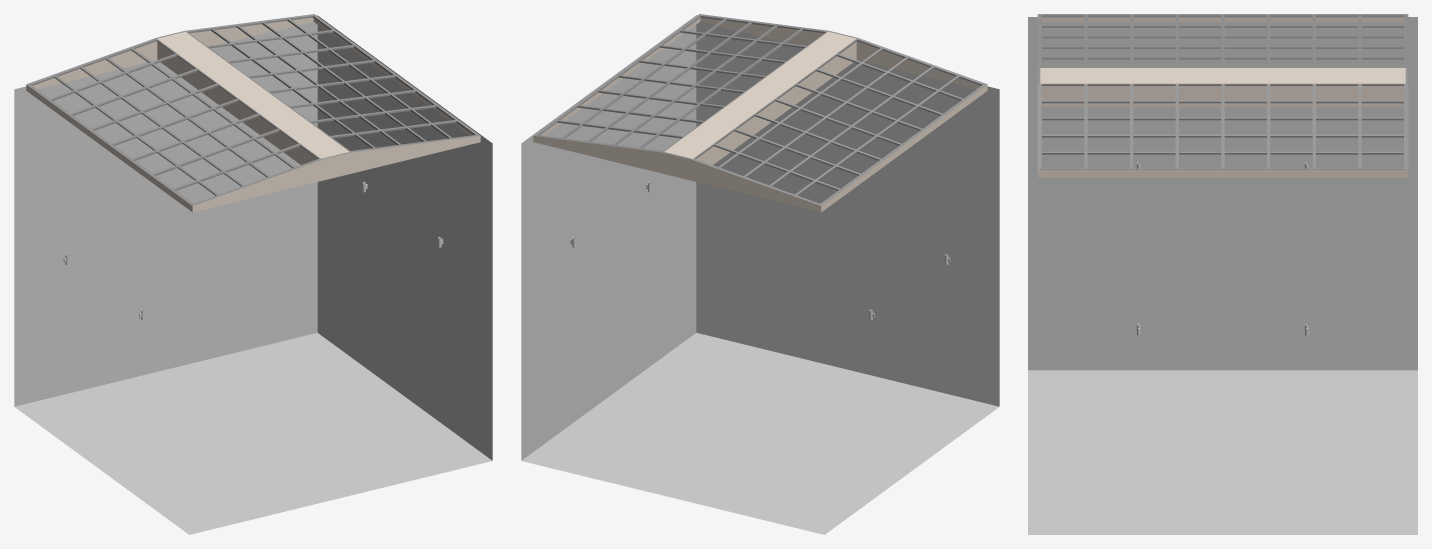
3 views of the same model, side by side, from view 1: azimuth 30°, elevation 25°; view 2: azimuth 150°, elevation 25°; view 3: azimuth 270°, elevation 25° (orthographic). The views are drawn at different scales.
Parts seen in each view (by area): view 1: WallBack, Floor, WallR, RoofFrame; view 2: WallFront, Floor, WallR, RoofFrame; view 3: WallL, Floor, RoofFrame.
Part boxes in pixels (bbox=[...]): WallBack: bbox=[14, 15, 317, 406]; Floor: bbox=[14, 333, 492, 534]; WallR: bbox=[317, 15, 492, 460]; RoofFrame: bbox=[26, 14, 480, 212]; WallFront: bbox=[696, 15, 999, 406]; Floor: bbox=[521, 333, 999, 534]; WallR: bbox=[521, 15, 696, 460]; RoofFrame: bbox=[533, 14, 987, 212]; WallL: bbox=[1028, 17, 1417, 370]; Floor: bbox=[1028, 370, 1417, 534]; RoofFrame: bbox=[1037, 14, 1408, 177].
Bounding box in the file's own units: 10 × 10.67 × 10.
